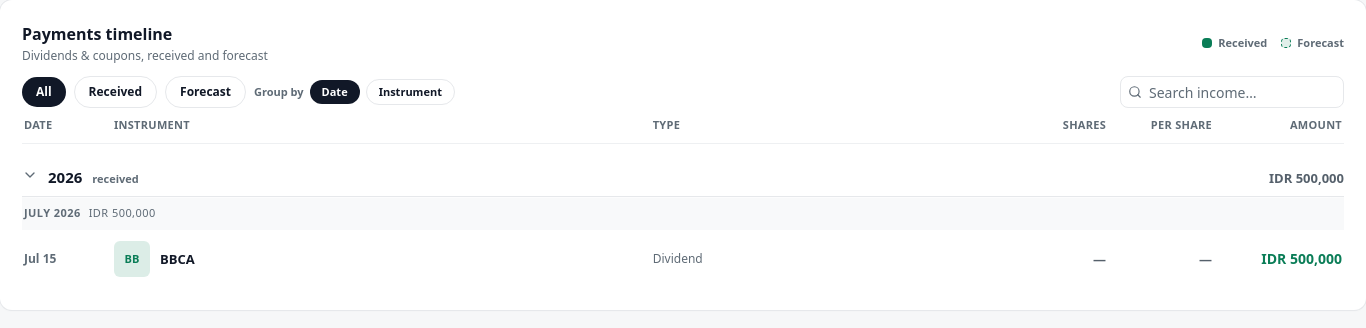
Test case: IncomeTimeline › shows an empty-filters message when nothing matches
Type "nonexistent" into the field with placeholder "Search income…" at (1232, 92), box [1120,76,1344,108]
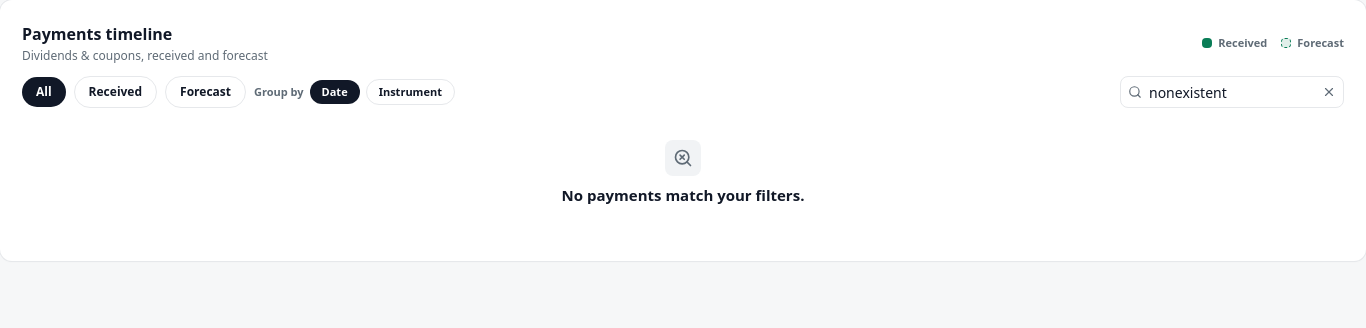
Result: the text "No payments match your filters." is shown at [562,184,804,206]
